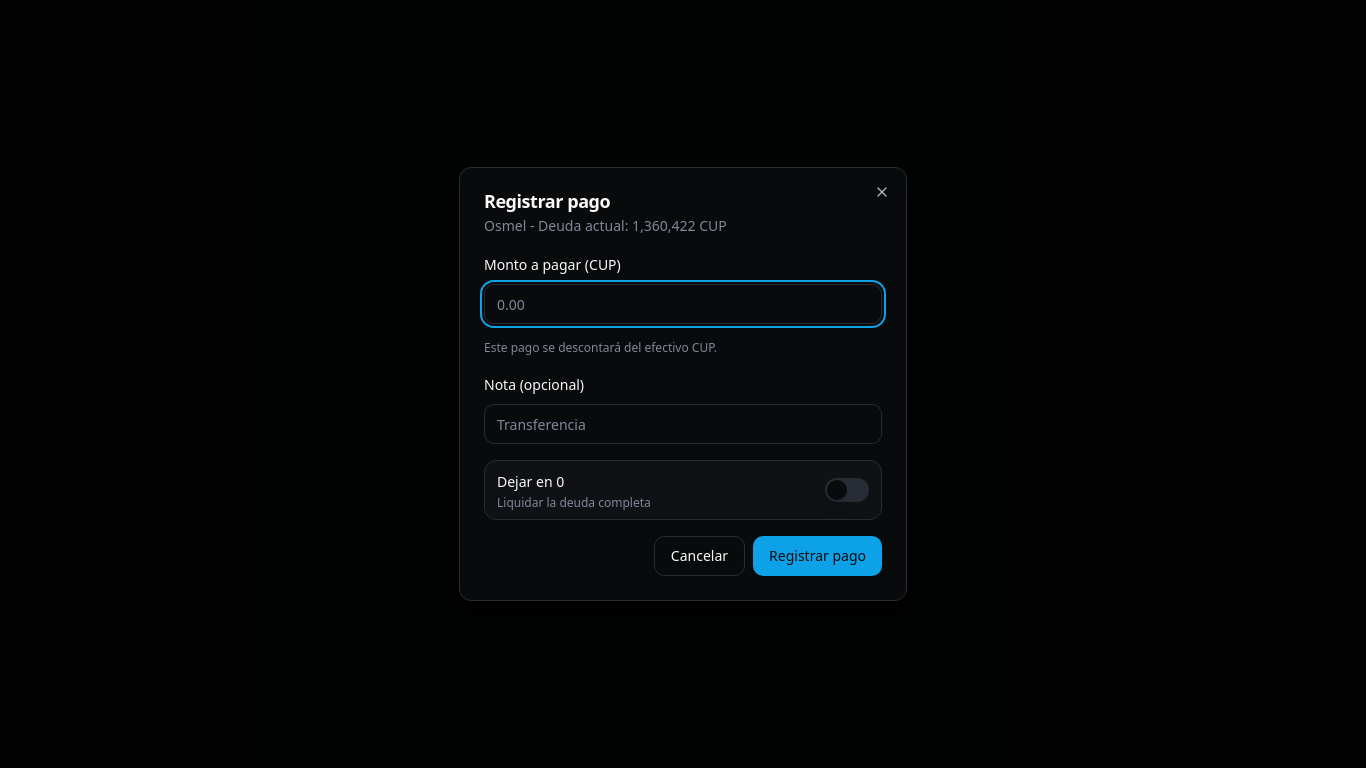
Test: CreateRemeseroPaymentDialog › fills amount and locks the input when 'Dejar en 0' is toggled on
Click the switch named "dejar en 0".
click(847, 490)  # box x1=825 y1=478 x2=869 y2=502
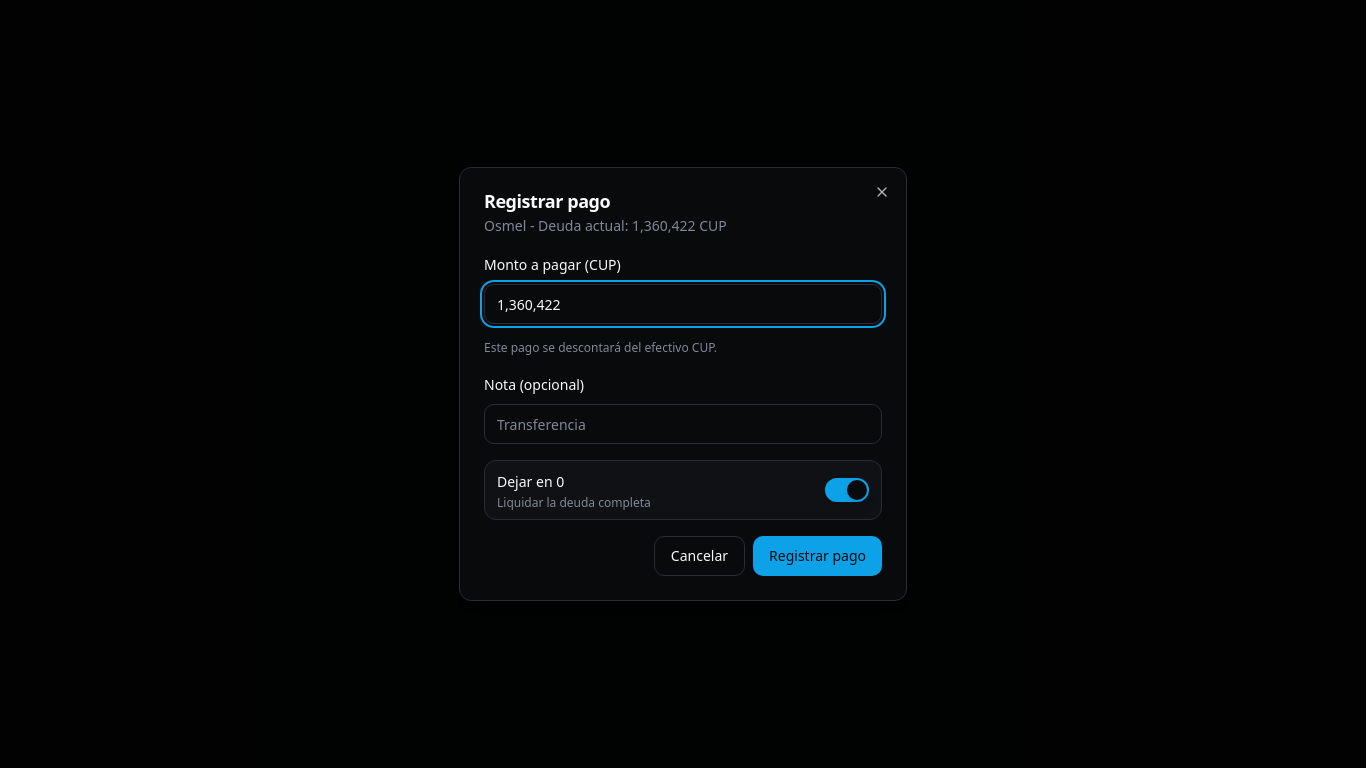
Check: the field labelled "Monto a pagar (CUP)" holds "1,360,422", box x1=484 y1=284 x2=882 y2=324
